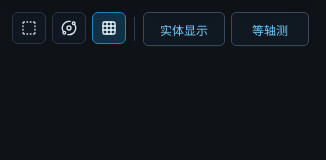
Test: ViewerPanel › shows coordinate axes and lets users toggle the world grid
This screenshot has width=326, height=160.
Click the button named "隐藏坐标网格": (109, 28) x1=92 y1=12 x2=126 y2=44
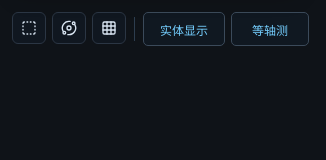
expect the button named "显示坐标网格" is shown: met, box x1=92 y1=12 x2=126 y2=44
